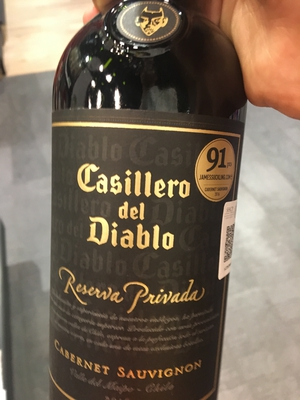casillero del diablo reserva privada cabernet sauvignon: (39, 14, 255, 400)
